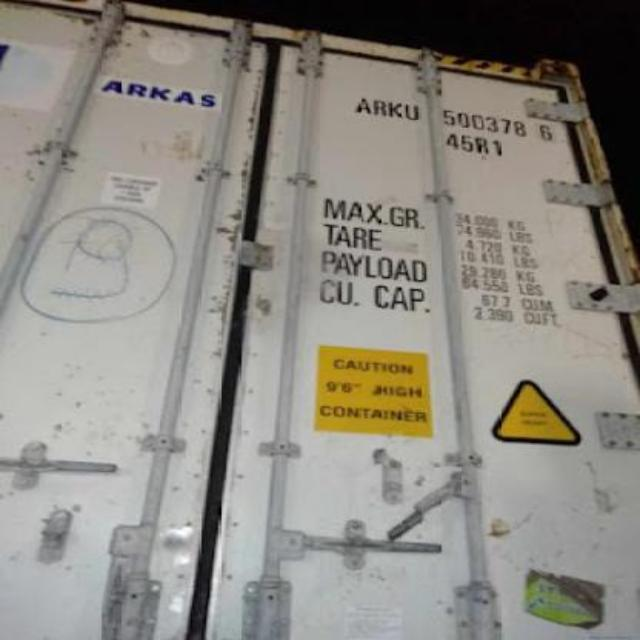0: (458, 111, 470, 127), (471, 115, 484, 128)
3: (486, 116, 499, 134)
5: (442, 108, 456, 126)
6: (540, 123, 552, 141)
7: (501, 115, 514, 135)
8: (514, 119, 526, 137)
A: (356, 94, 372, 116)
K: (388, 99, 402, 117)
R: (370, 100, 386, 112)
U: (404, 102, 422, 122)
